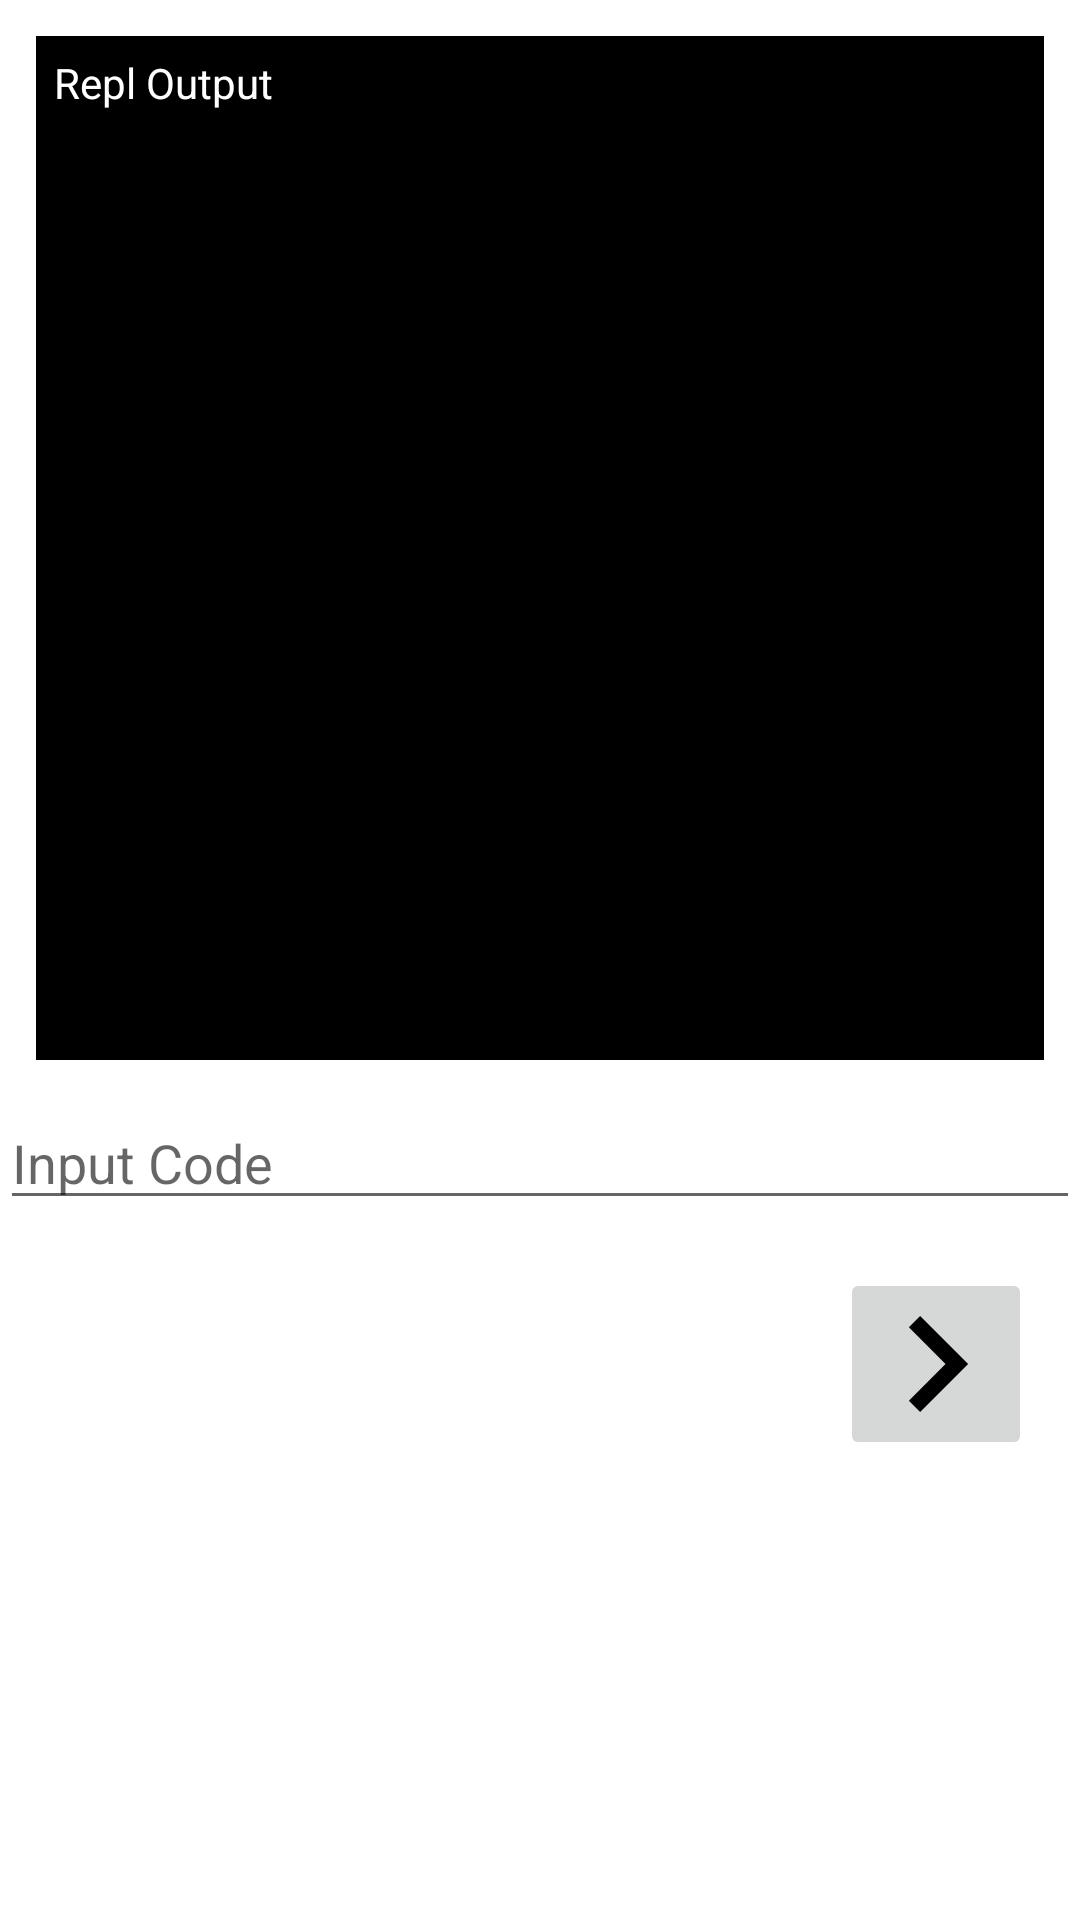

Where to tap for icons on this 1080*1920 app screen, as (x,y):
Send to REPL: (936,1364)
